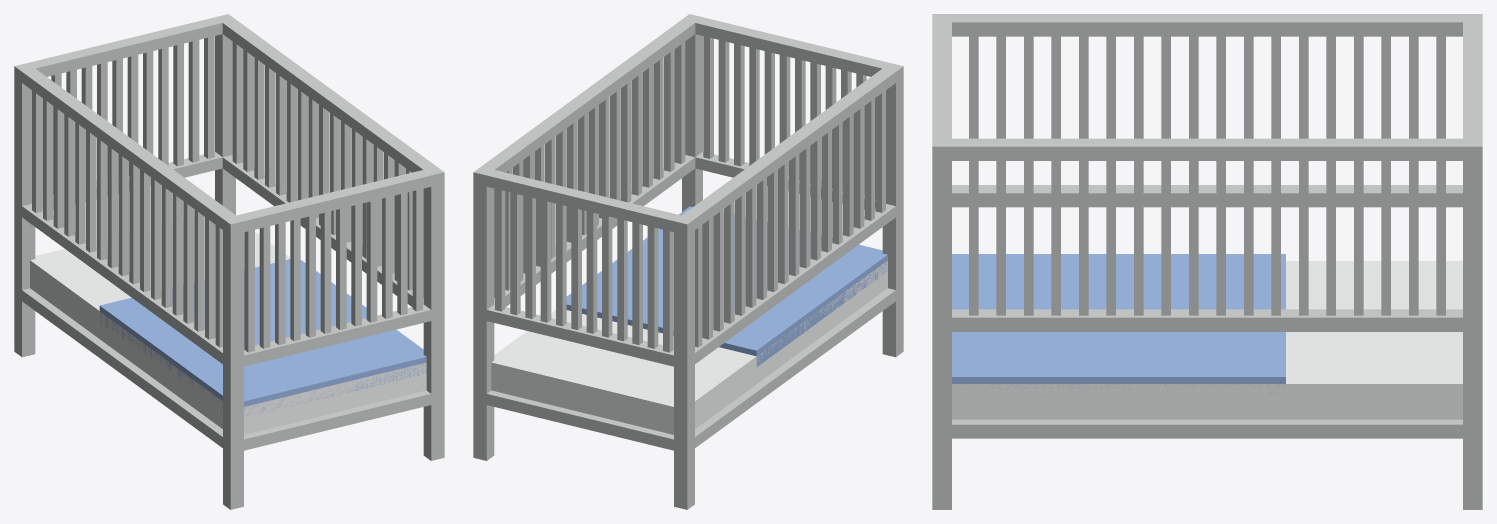
File: cribModern.glb
3 views of the same model, side by side, from view 1: azimuth 30°, elevation 25°; view 2: azimuth 150°, elevation 25°; view 3: azimuth 270°, elevation 25° (orthographic). The views are drawn at different scales.
Visible parts, largest first — view 1: cribModern; view 2: cribModern; view 3: cribModern.
Boxes of the visible parts, x1,y1,x2,y2 form: cribModern: (14, 14, 444, 509); cribModern: (473, 14, 903, 509); cribModern: (932, 14, 1482, 509).
Size of the model in its own units: 0.4 by 0.51 by 0.7.
